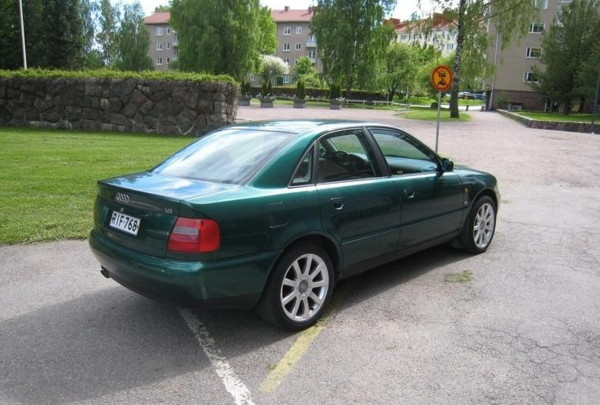car: (88, 119, 501, 332)
